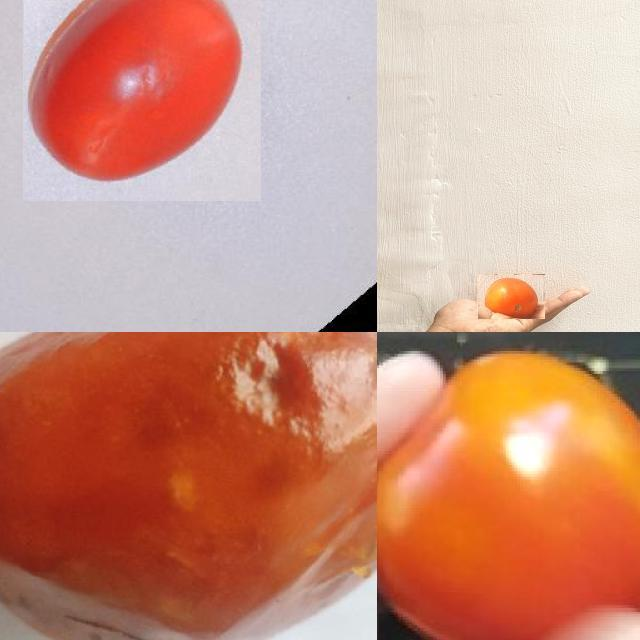Fresh Tomato: (377, 332, 640, 640), (23, 0, 261, 201), (477, 274, 545, 319)
Rotten Tomato: (0, 332, 377, 640)
